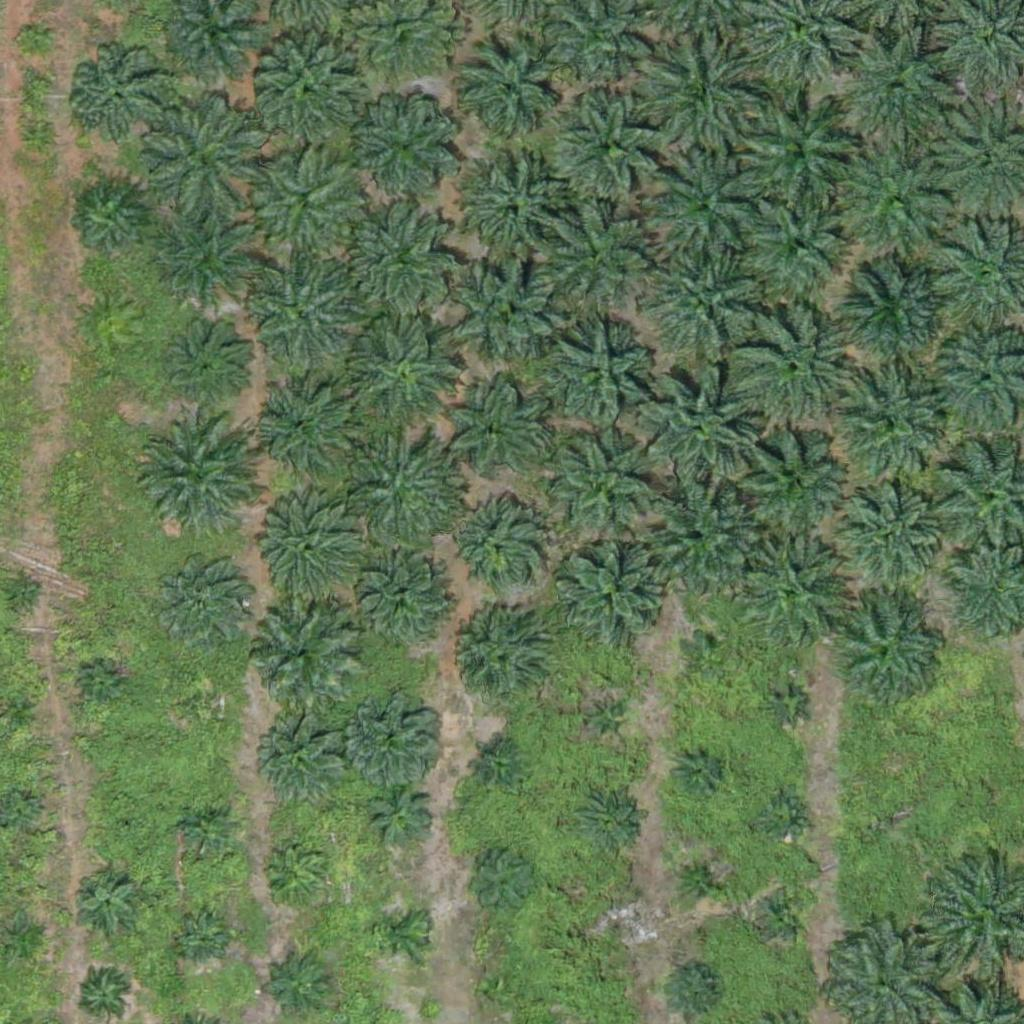Kelapa_Sawit: (836, 29, 961, 155), (628, 34, 753, 160), (138, 93, 263, 219), (131, 413, 256, 539), (541, 427, 666, 553), (644, 142, 769, 268), (642, 236, 767, 362), (637, 371, 762, 497), (637, 486, 762, 612), (734, 81, 859, 207), (738, 180, 863, 306), (734, 301, 859, 427), (724, 414, 849, 540), (826, 136, 951, 262), (343, 428, 468, 553), (826, 475, 939, 589), (838, 368, 951, 482), (253, 36, 366, 149), (351, 86, 464, 199), (459, 156, 572, 269), (242, 596, 355, 709), (346, 201, 459, 314), (346, 314, 459, 427), (444, 252, 557, 365), (558, 542, 671, 655), (830, 594, 943, 707), (841, 256, 954, 369), (538, 203, 650, 317), (452, 34, 564, 147), (553, 90, 665, 203), (251, 152, 363, 265), (152, 203, 264, 316), (247, 259, 359, 372), (249, 492, 361, 605), (540, 316, 652, 429), (737, 542, 849, 655), (152, 552, 252, 653), (255, 380, 355, 481), (353, 552, 453, 653), (443, 380, 543, 481), (445, 497, 545, 598), (443, 610, 543, 711), (348, 687, 448, 788), (67, 48, 167, 148), (164, 317, 251, 405), (261, 720, 348, 808), (73, 182, 148, 258), (462, 843, 537, 918), (267, 955, 330, 1018), (176, 800, 239, 863), (660, 960, 723, 1023), (73, 869, 135, 932), (578, 791, 640, 854), (369, 782, 431, 845), (267, 845, 329, 908), (375, 905, 425, 956), (675, 852, 725, 903), (80, 971, 130, 1021), (174, 912, 224, 962), (673, 743, 723, 793), (759, 890, 809, 940), (762, 680, 812, 730), (758, 791, 808, 841), (578, 695, 628, 745), (681, 626, 731, 676), (482, 973, 520, 1011), (2, 693, 40, 731), (3, 574, 41, 612), (5, 917, 43, 955), (17, 25, 54, 63), (480, 749, 518, 786), (188, 687, 226, 724), (84, 667, 121, 705), (605, 906, 630, 931), (115, 817, 140, 842)
